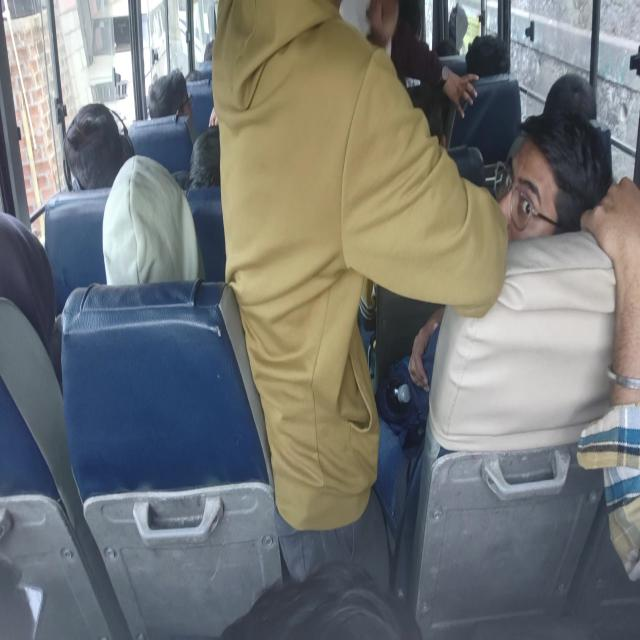person: (209, 0, 508, 594), (404, 106, 614, 595), (578, 175, 640, 582), (102, 153, 204, 286), (390, 1, 479, 118), (63, 101, 134, 192), (147, 67, 199, 146), (185, 123, 221, 193)
